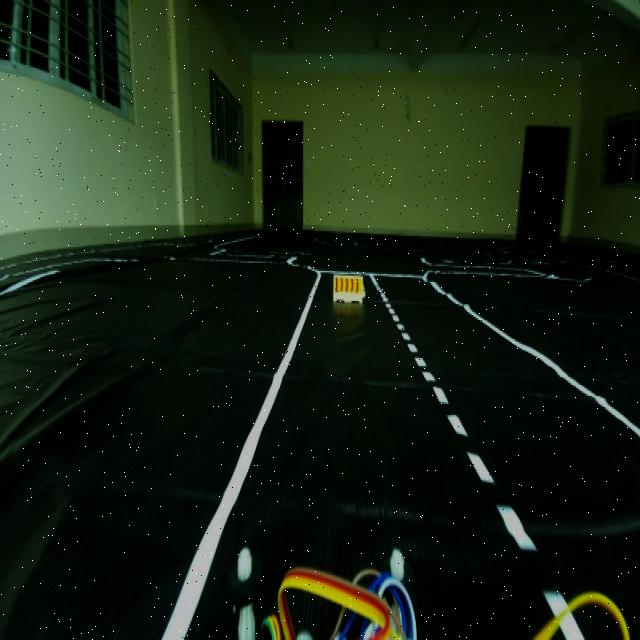roadblock: (331, 270, 366, 308)
